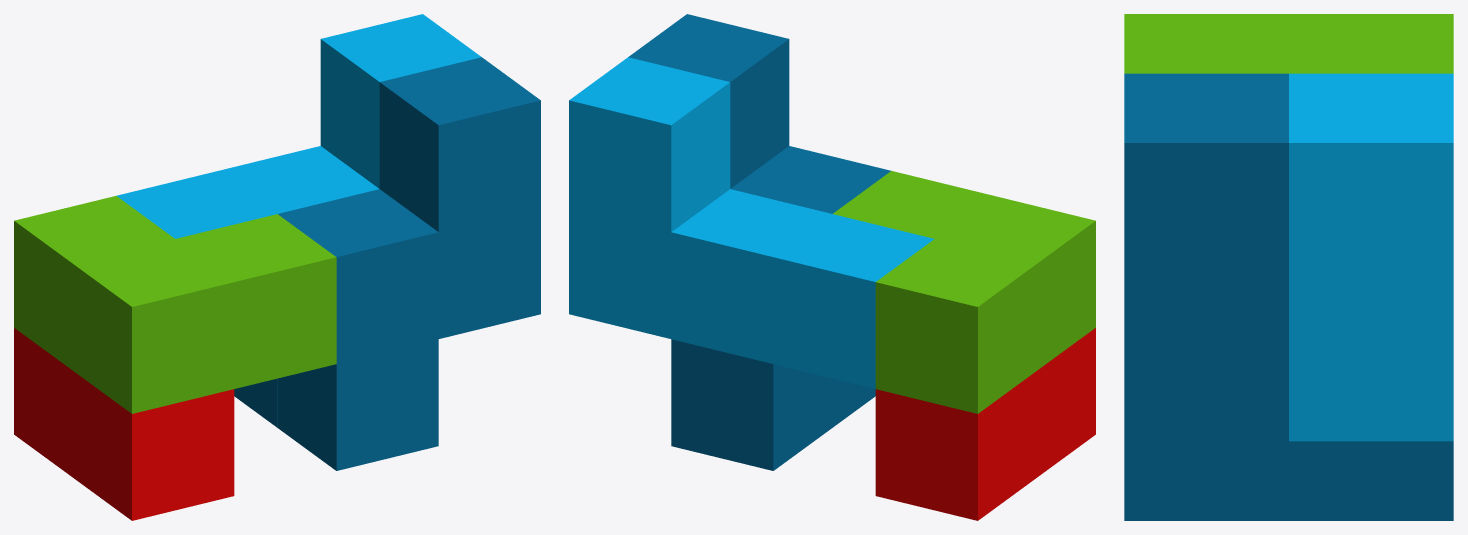
3 views of the same model, side by side, from view 1: azimuth 30°, elevation 25°; view 2: azimuth 150°, elevation 25°; view 3: azimuth 270°, elevation 25° (orthographic). The views are drawn at different scales.
Visible parts, largest first — view 1: mergedBlocks(Clone); view 2: mergedBlocks(Clone); view 3: mergedBlocks(Clone).
Part boxes in pixels (x1,y1,x2,y2): mergedBlocks(Clone): (14, 14, 540, 520); mergedBlocks(Clone): (569, 14, 1095, 520); mergedBlocks(Clone): (1124, 14, 1453, 520).
Size of the model in its own units: 4 by 3 by 2.
Materials: 4 (4 with a texture image).
